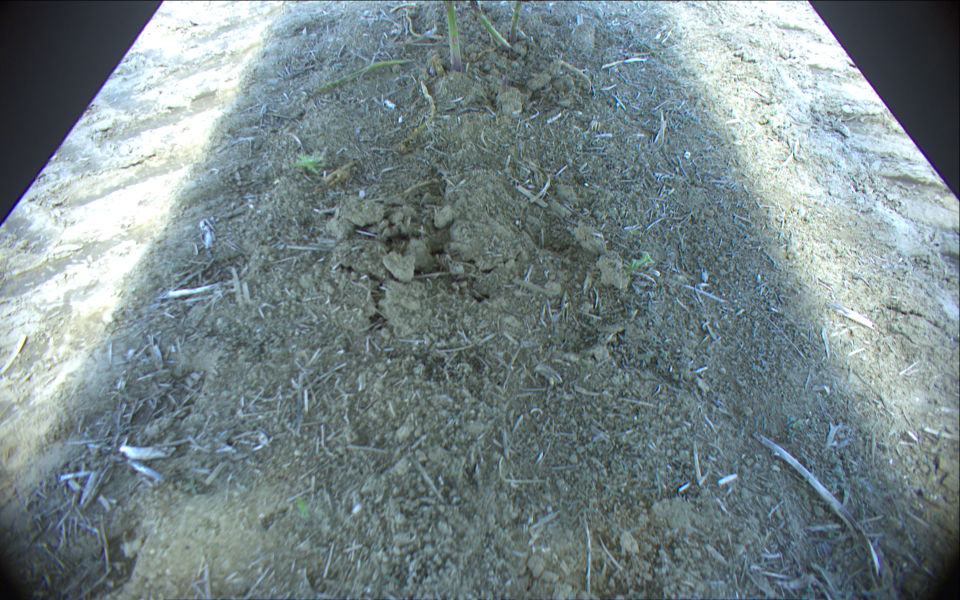aspa: (302, 58, 415, 98), (470, 1, 510, 49), (447, 1, 462, 72), (510, 1, 523, 44)
